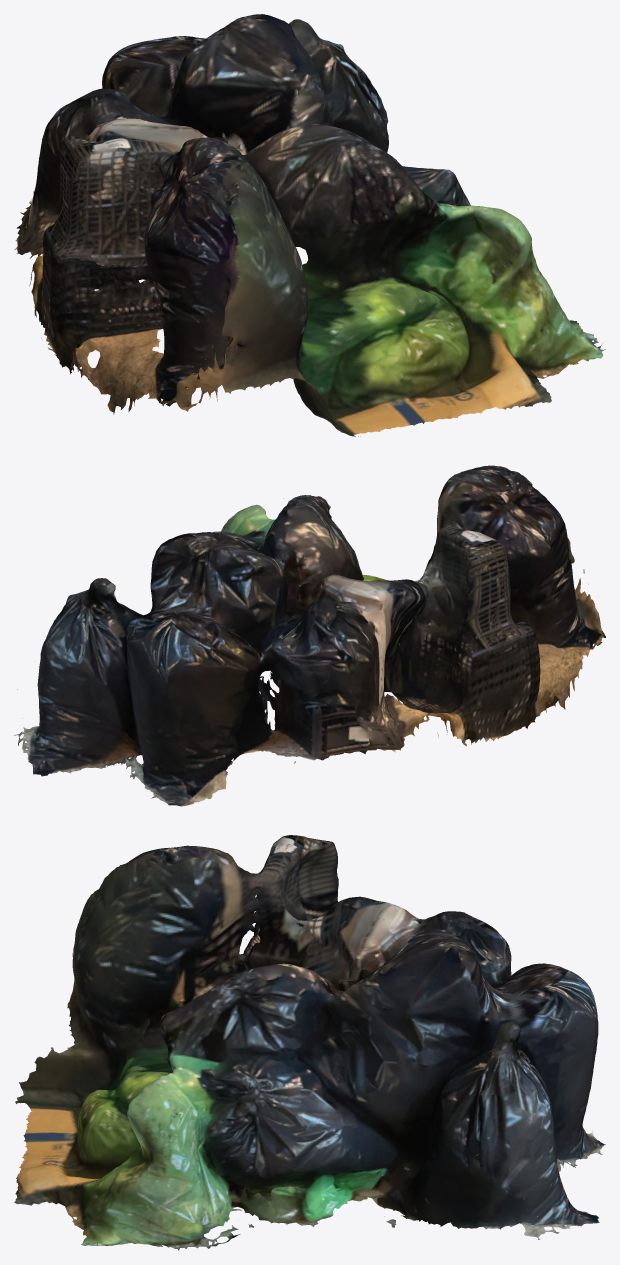
Rendered from trash_bags_scan.glb.
3 views of the same model, one above another, from view 1: azimuth 30°, elevation 25°; view 2: azimuth 150°, elevation 25°; view 3: azimuth 270°, elevation 25° (orthographic). The views are drawn at different scales.
Parts seen in each view (by area): view 1: Object_2; view 2: Object_2; view 3: Object_2.
Boxes of the visible parts, x1,y1,x2,y2 form: Object_2: (14,14,605,436); Object_2: (14,465,605,806); Object_2: (14,835,605,1250).
Bounding box in the file's own units: 39.11 × 20.57 × 45.38.
1 material, 1 textured.
